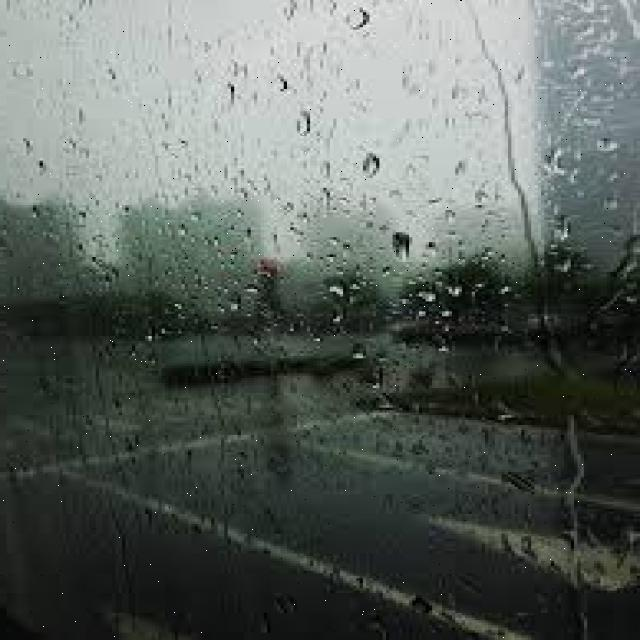raindrop: (484, 390, 548, 440), (336, 380, 404, 426), (524, 230, 582, 278), (374, 220, 416, 274), (352, 144, 394, 191), (282, 106, 318, 152), (333, 0, 378, 36)
